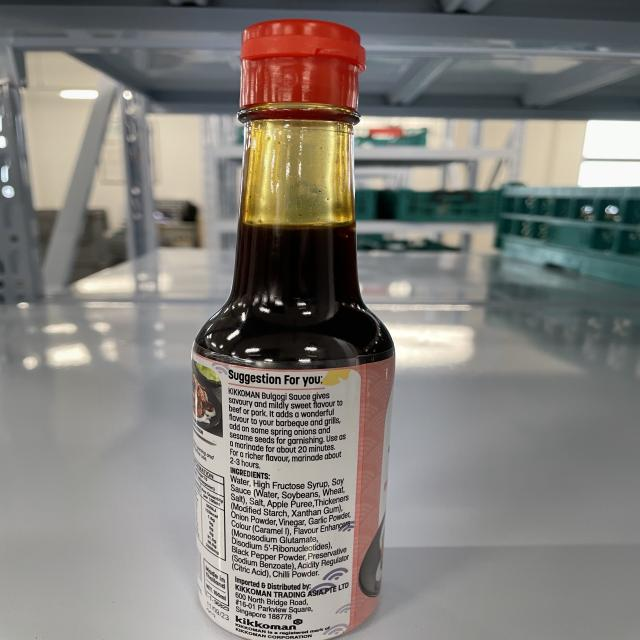object_name: (201, 32, 383, 629)
